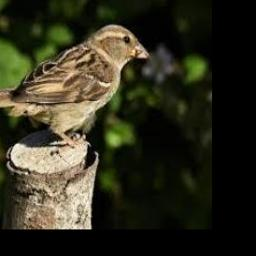Sparrow: (0, 23, 149, 145)
